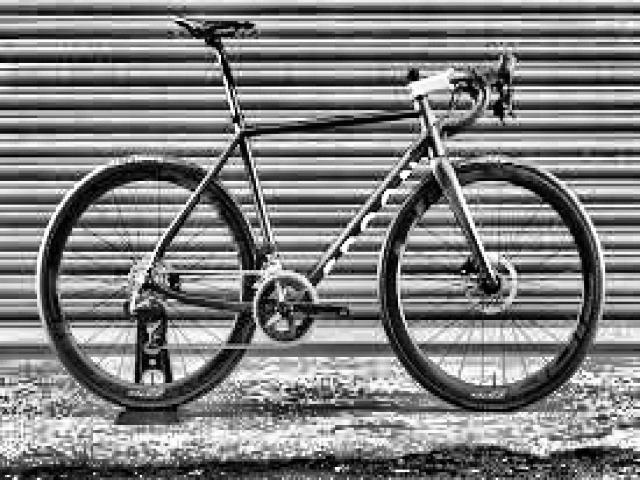cranks_set: (252, 271, 348, 348)
rear_derailleur: (128, 291, 170, 355)
saddle: (171, 15, 259, 43)
sti_shifter: (492, 50, 520, 125)
wheel: (377, 152, 608, 414), (35, 152, 261, 412)
